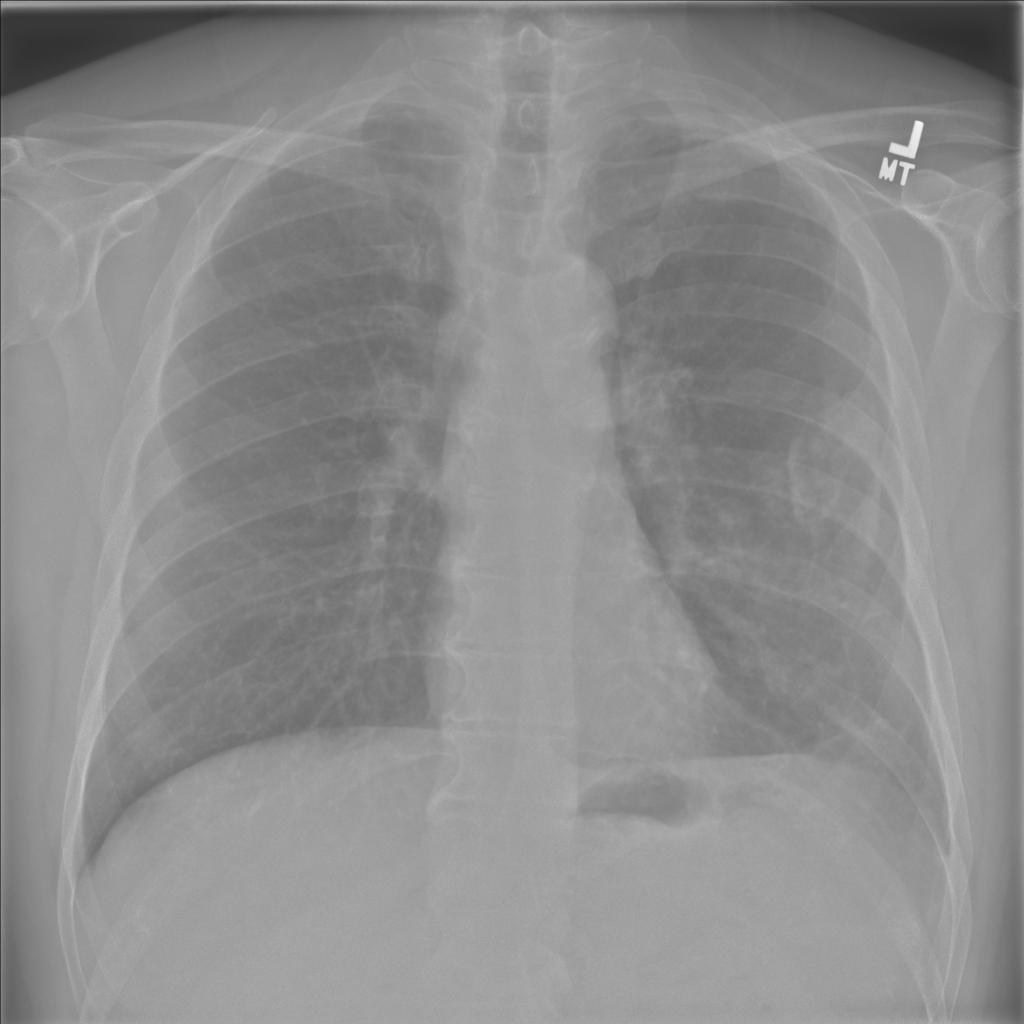Nodule: (139, 165, 168, 211), (409, 220, 430, 239)
